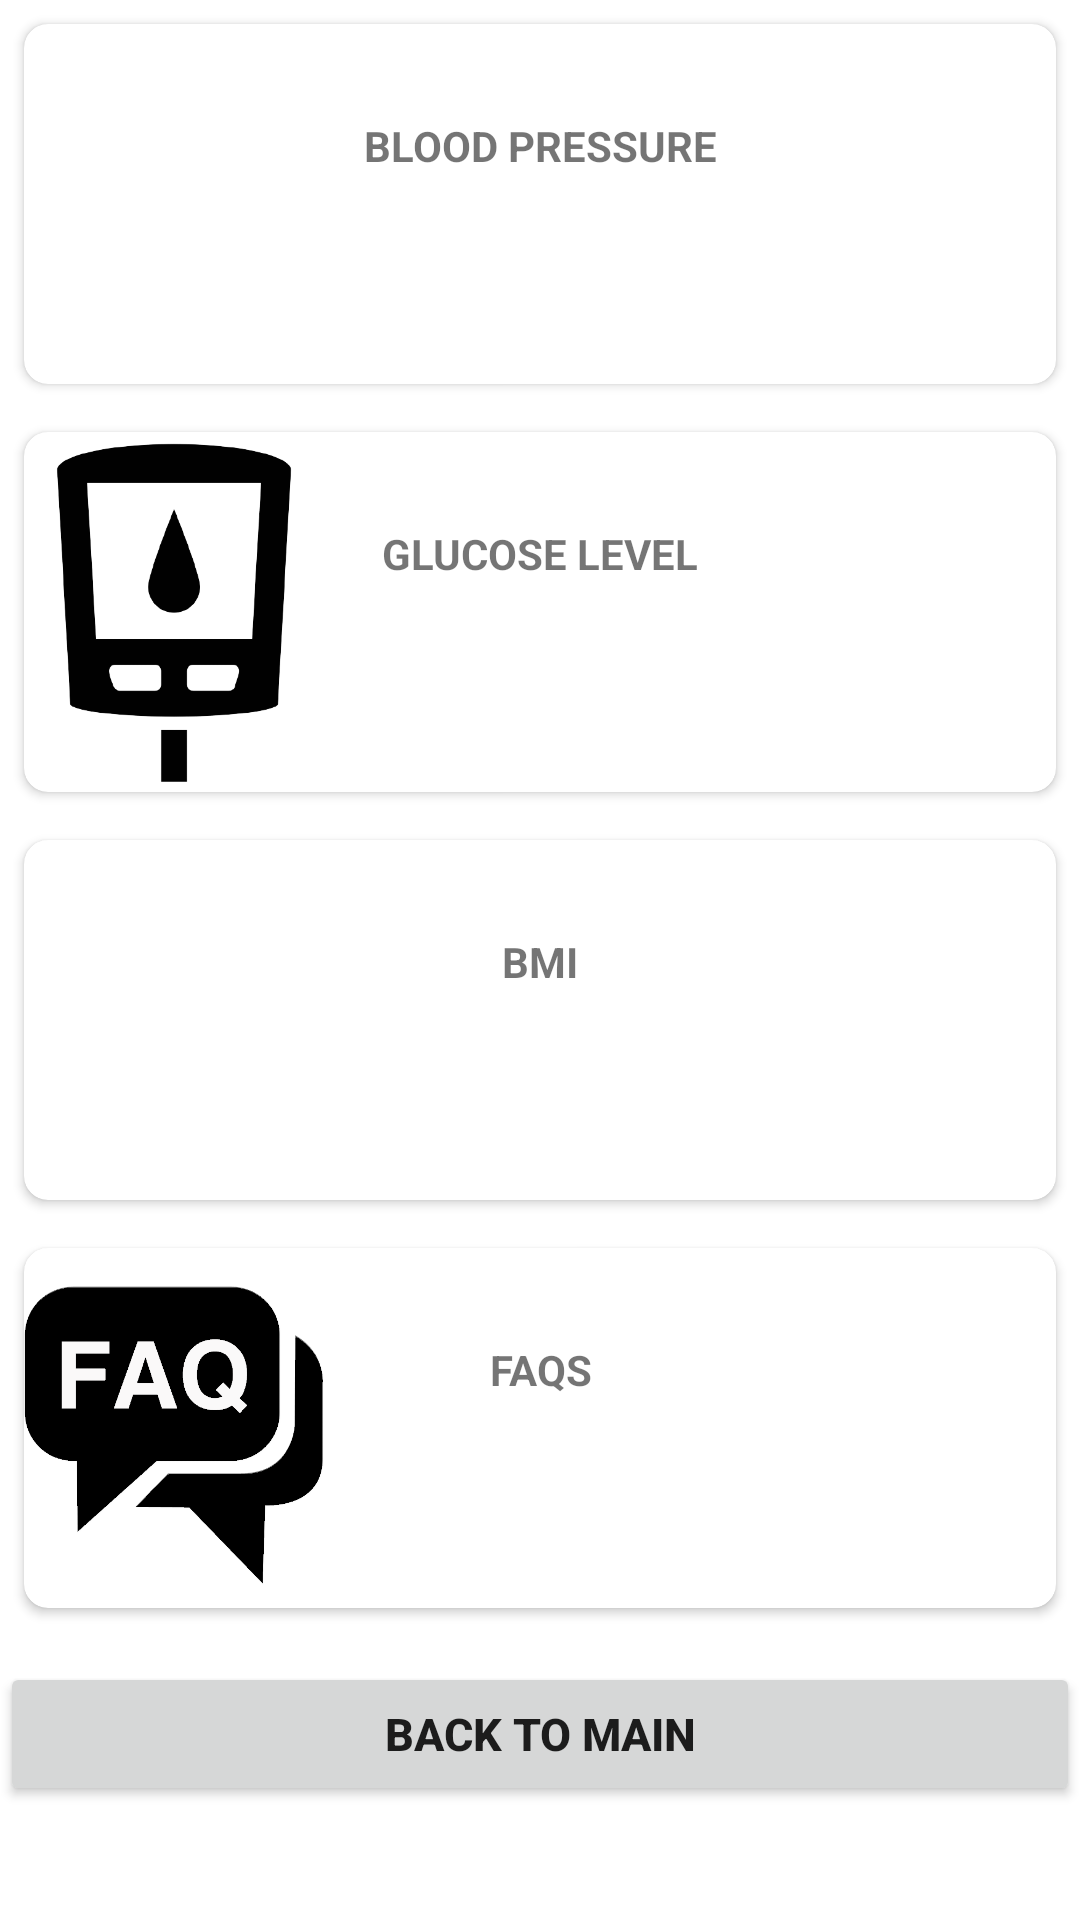

Screen size 1080w x 1920h. Icon name, then its center in pixels as point (x, y):
diabetes: point (157, 611)
